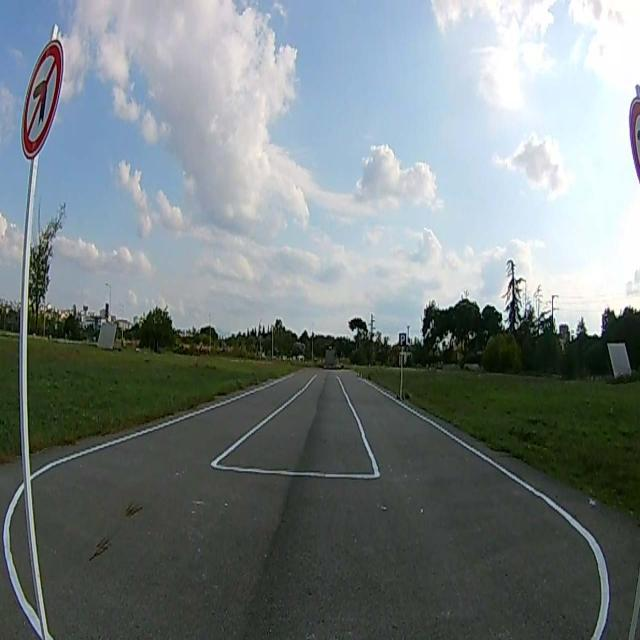soladonulmez: (21, 43, 59, 157)
